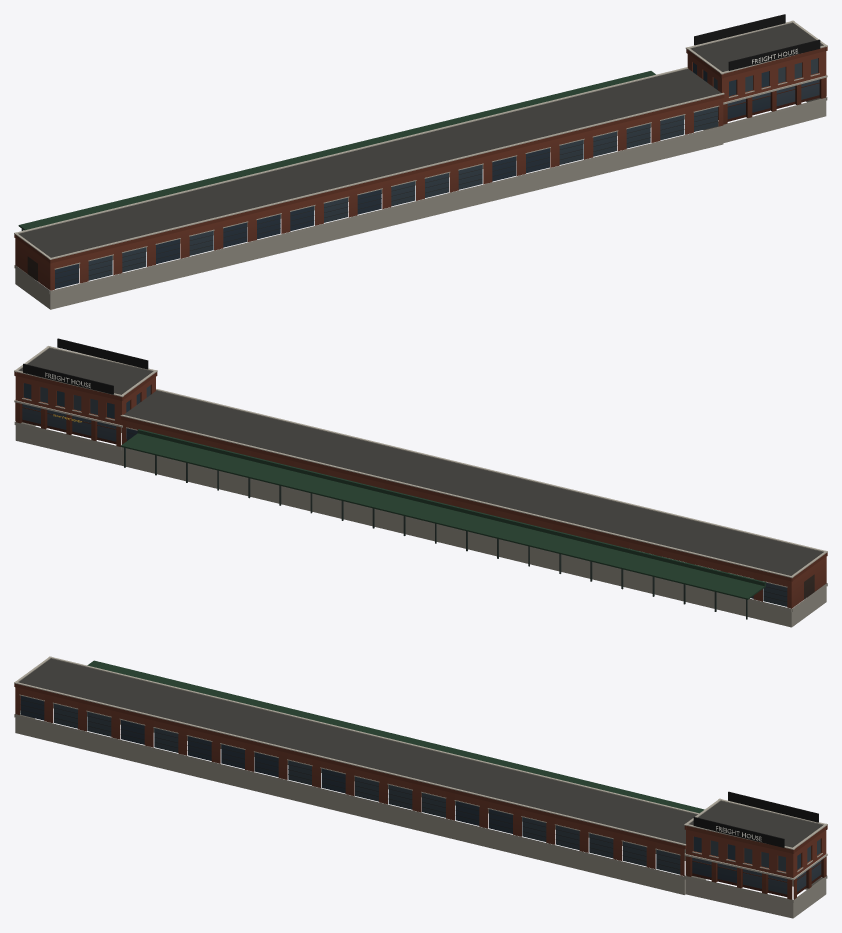
Rendered from freighthouse.glb.
The picture shows the model from 3 angles, top to bottom: view 1: azimuth 30°, elevation 25°; view 2: azimuth 150°, elevation 25°; view 3: azimuth 330°, elevation 25°; orthographic projection.
Parts seen in each view (by area): view 1: freighthouse_lod0; view 2: freighthouse_lod0; view 3: freighthouse_lod0.
Part boxes in pixels (x1,y1,x2,y2): freighthouse_lod0: [14, 14, 827, 309]; freighthouse_lod0: [14, 338, 827, 627]; freighthouse_lod0: [14, 656, 827, 918].
Size of what is drawn, in the model's own units: 155 by 15 by 19.2.
